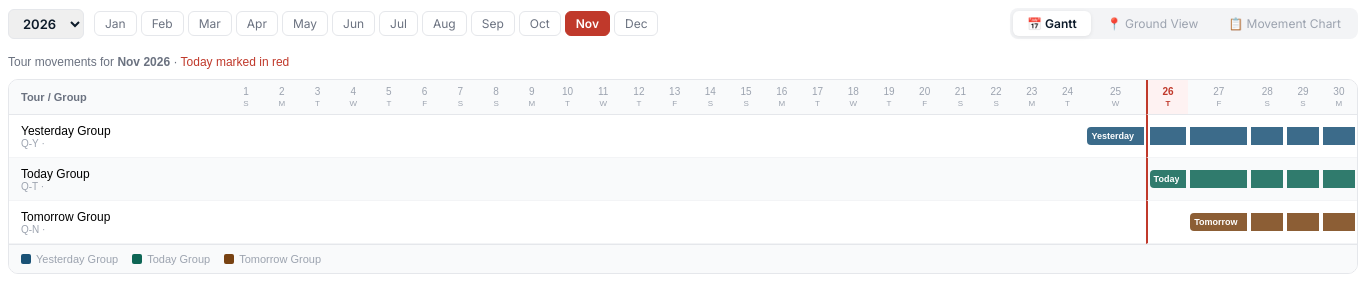
Test: GanttView UI: Ground View Yesterday / Today / Tomorrow buttons › Yesterday shows only the tour running yesterday
Step 1. Click the button "📍 Ground View" → [1152, 24], box [1093,11,1212,36]
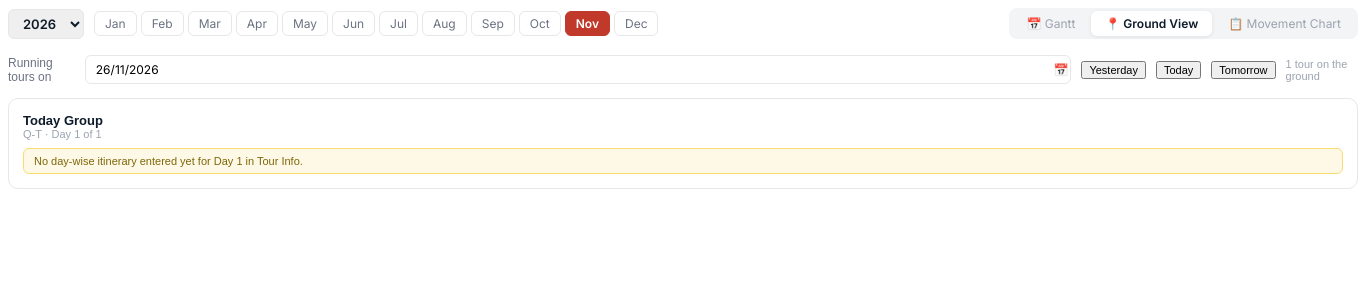
Step 2. Click the button "Yesterday" → [1114, 70], box [1081,60,1146,78]
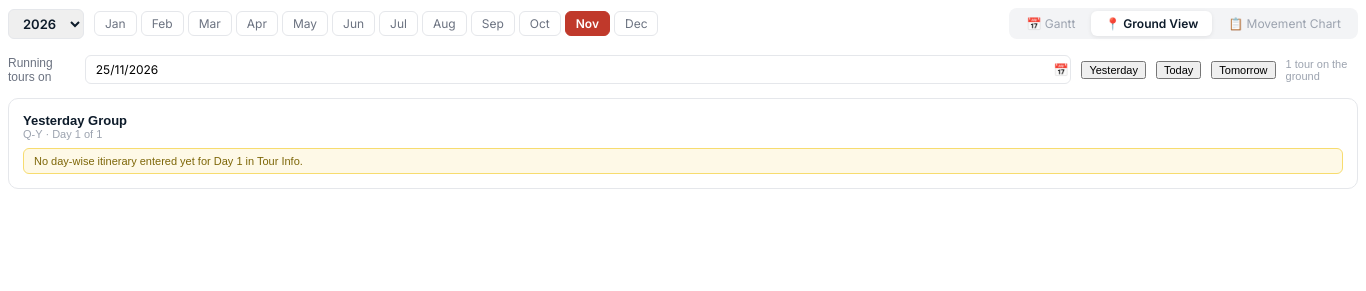
Expected: the text "Tomorrow Group" is not shown
Result: the text "Yesterday Group" is shown at [23,113,127,128]
Result: the text "Today Group" is gone
